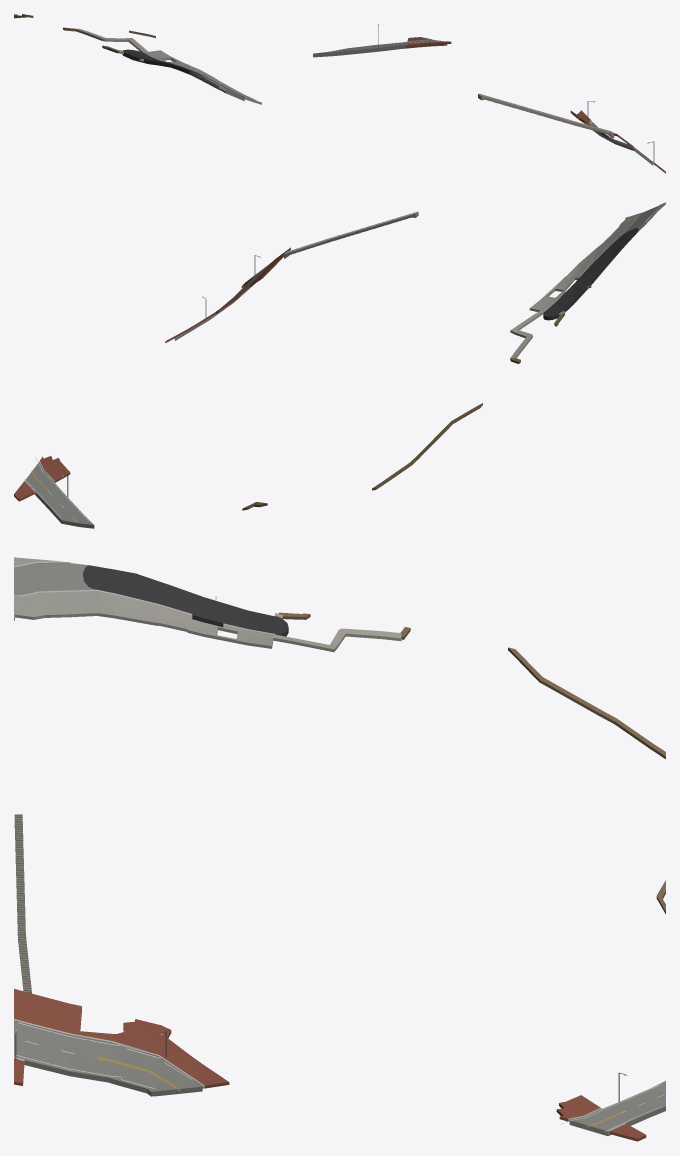
The model's file is 18-218906-118975.a656cdfd.glb.
The picture shows the model from 3 angles, top to bottom: view 1: azimuth 30°, elevation 25°; view 2: azimuth 150°, elevation 25°; view 3: azimuth 270°, elevation 25°; orthographic projection. The views are drawn at different scales.
Bounding box in the file's own units: 149 × 77.66 × 146.
